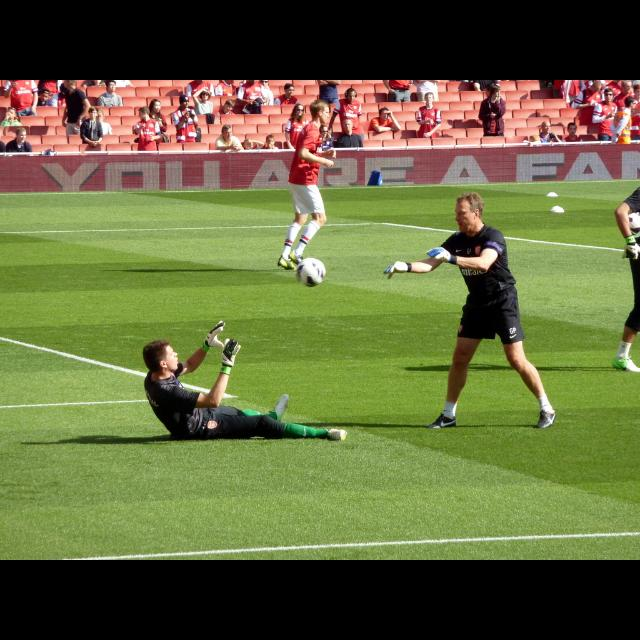Football: (296, 256, 326, 284)
